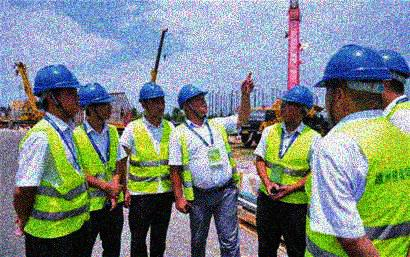helmet: (319, 42, 385, 127), (33, 64, 83, 118), (373, 46, 410, 111), (277, 85, 315, 123), (78, 83, 115, 120), (176, 82, 210, 117), (137, 80, 166, 117)
